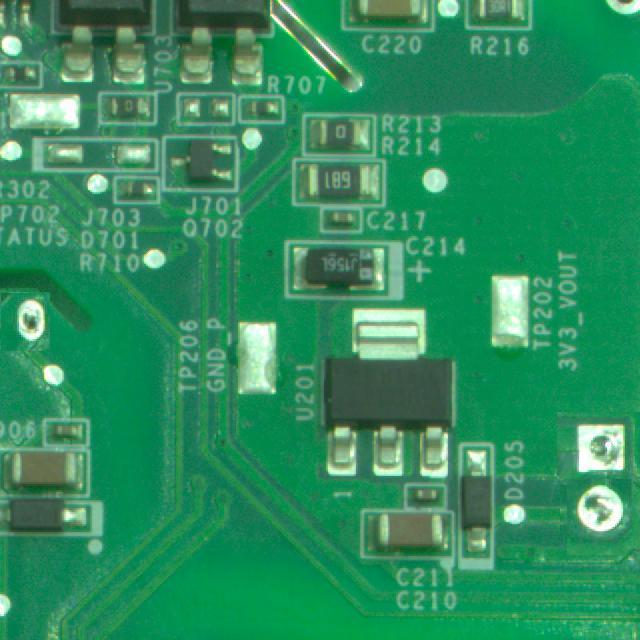lack_of_part: (557, 412, 640, 479), (563, 479, 637, 552), (0, 292, 50, 351)
